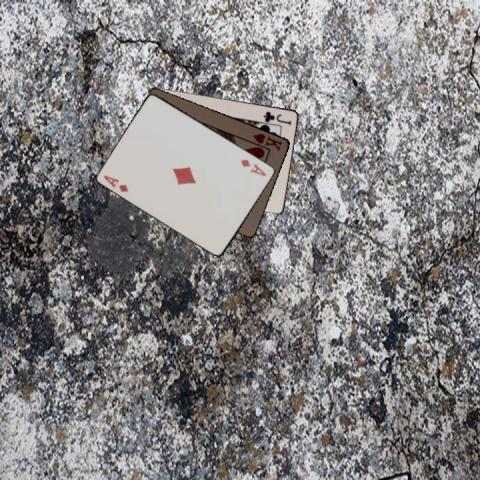Ad: (238, 156, 268, 177), (101, 172, 130, 193)
Jc: (260, 108, 292, 125)
Kh: (250, 130, 284, 152)
